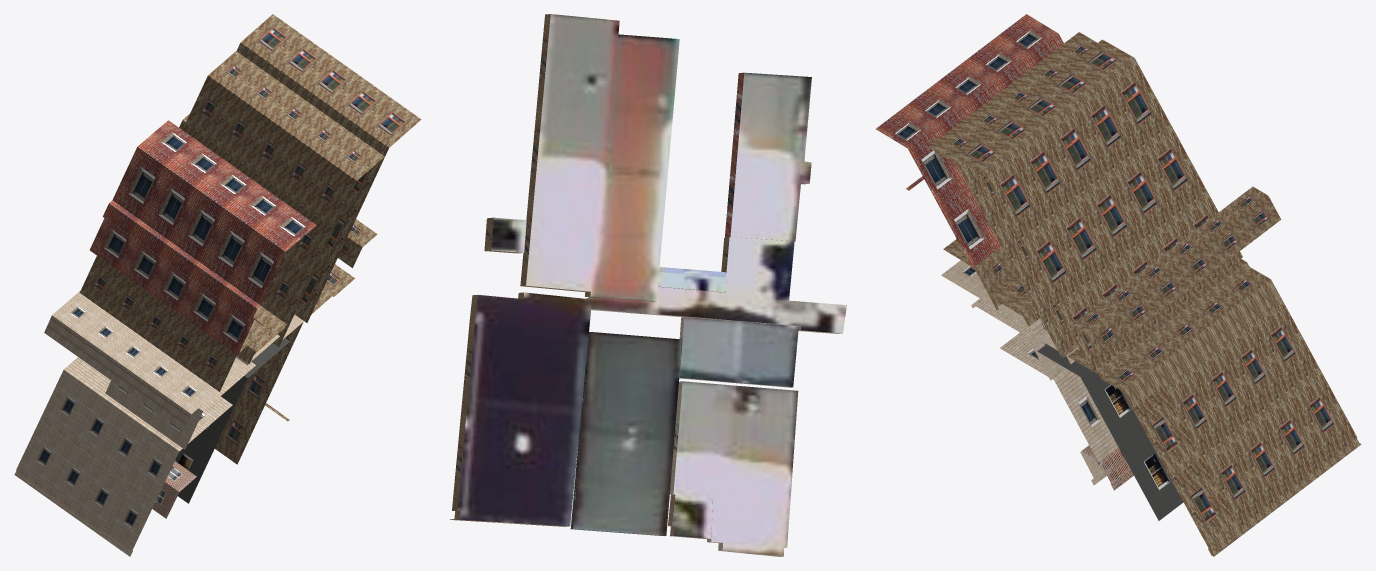
3 views of the same model, side by side, from view 1: azimuth 30°, elevation 25°; view 2: azimuth 150°, elevation 25°; view 3: azimuth 270°, elevation 25° (orthographic). The views are drawn at different scales.
Size of the model in its own units: 34.07 by 47.1 by 41.34.
Materials: 43 (43 with a texture image).
